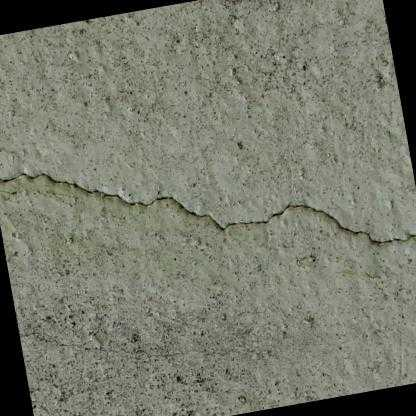crack: (0, 172, 416, 242)
